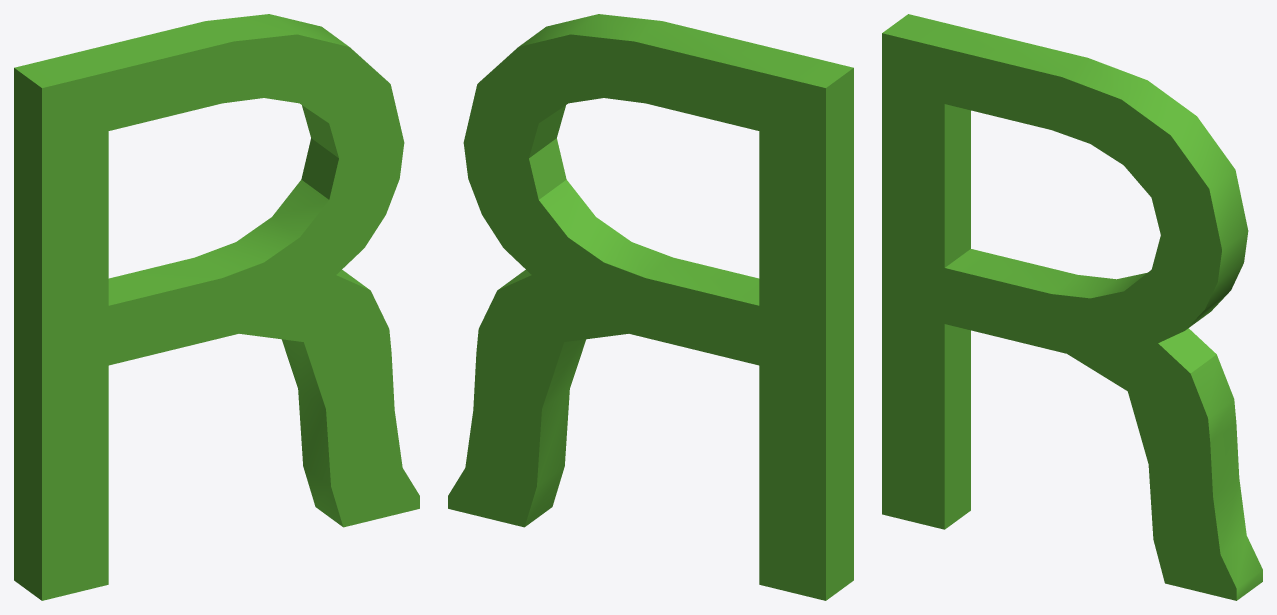
The model's file is letras.obj.
3 views of the same model, side by side, from view 1: azimuth 30°, elevation 25°; view 2: azimuth 150°, elevation 25°; view 3: azimuth 330°, elevation 25° (orthographic). The views are drawn at different scales.
Parts seen in each view (by area): view 1: R; view 2: R; view 3: R.
Boxes of the visible parts, x1,y1,x2,y2 form: R: (14, 14, 419, 600); R: (448, 14, 853, 600); R: (882, 14, 1262, 600).
Size of the model in its own units: 0.781 by 1.01 by 0.1.
